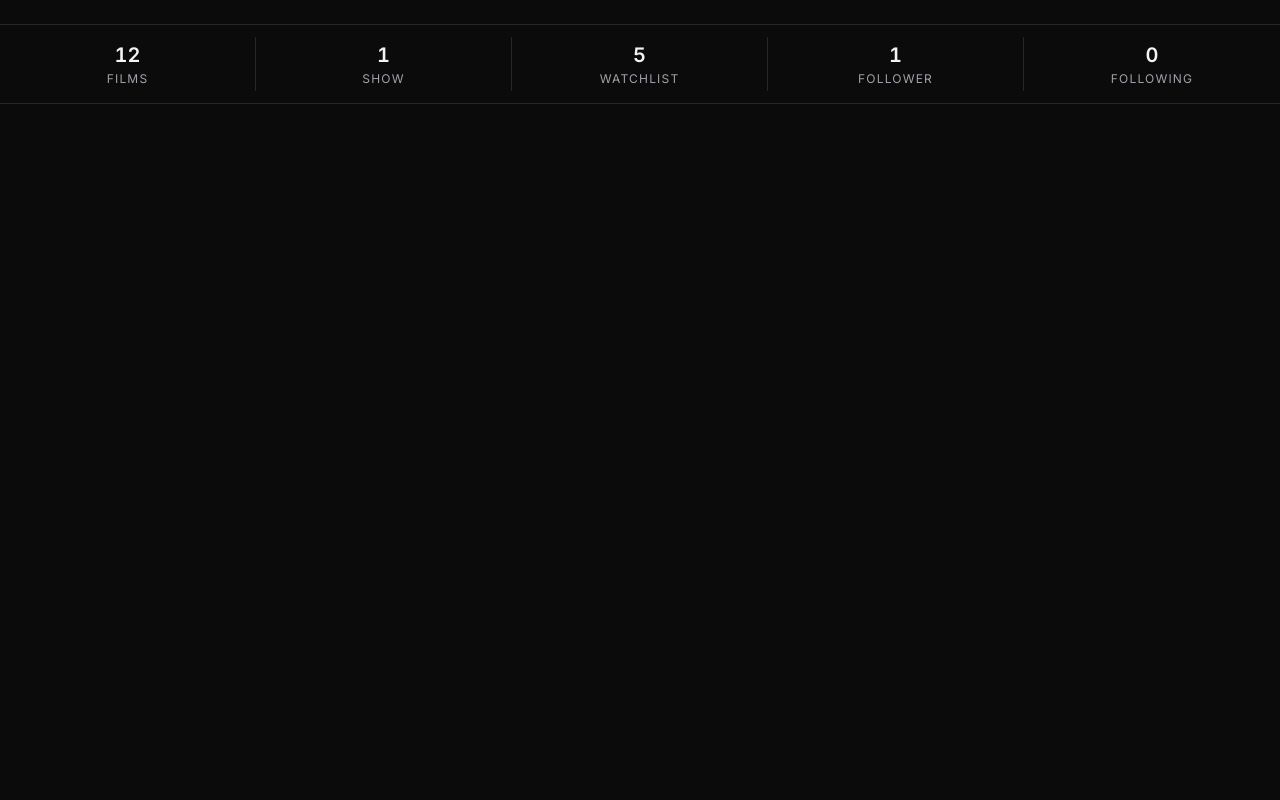
Scenario: ProfileStats › opens the followers list and fetches it for this profile
The width and height of the screenshot is (1280, 800).
What coordinates should you click on to do the following:
click the button "1 Follower"
I would click on:
 (896, 64)
Its box is [772,37,1019,91].
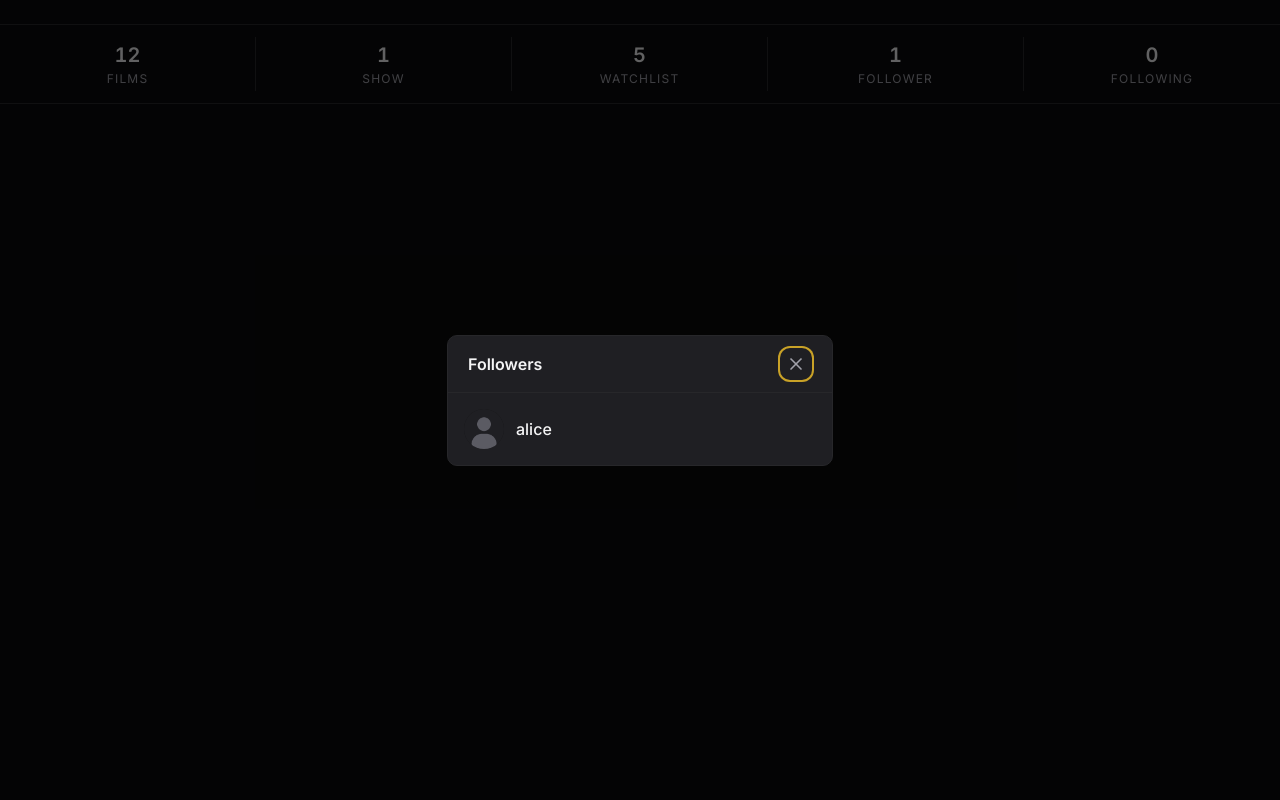
expect the heading "Followers" is shown: met, box [468,352,542,376]
